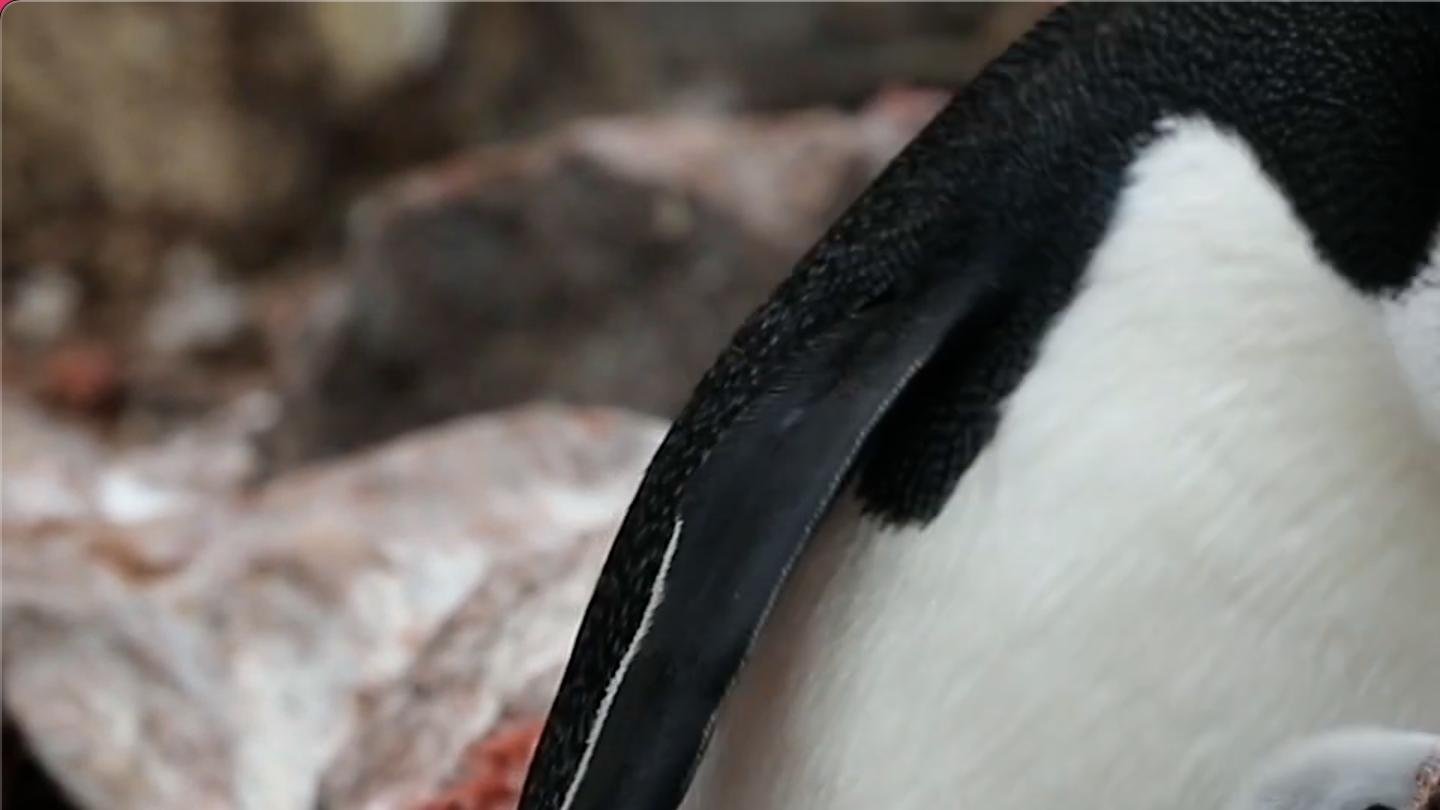Chinstrap Penguin: (1311, 5, 1440, 755)
